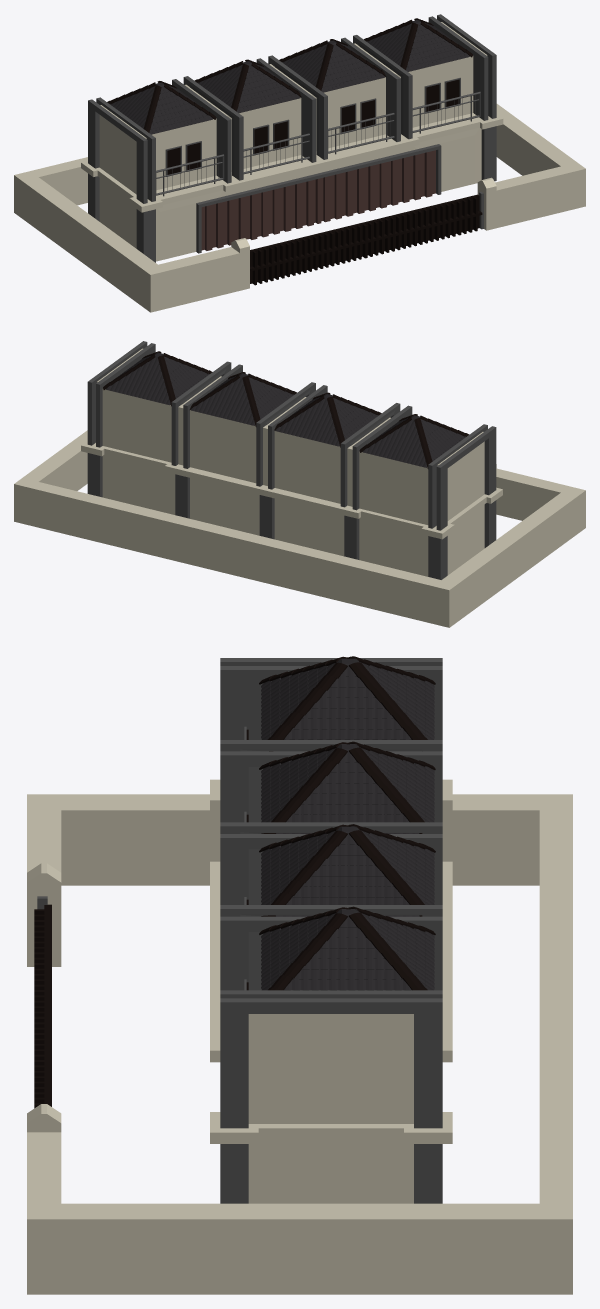
File: rumah mc gerbang 4.fbx
The picture shows the model from 3 angles, top to bottom: view 1: azimuth 30°, elevation 25°; view 2: azimuth 150°, elevation 25°; view 3: azimuth 270°, elevation 25°; orthographic projection. The views are drawn at different scales.
Visible parts, largest first — view 1: Plane, Plane.013, Plane.039, Plane.015, Plane.012, Plane.040, Plane.037, Plane.038, Plane.027, Plane.016, Plane.004, Plane.026 (+17 smaller); view 2: Plane, Plane.013, Plane.012, Plane.037, Plane.040, Plane.027, Plane.038, Plane.020, Plane.044, Plane.030, Plane.007, Plane.006 (+7 smaller); view 3: Plane.013, Plane, Plane.040, Plane.027, Plane.038, Plane.037, Plane.012, Plane.042, Plane.005, Plane.028, Plane.018, Plane.015 (+12 smaller).
Part boxes in pixels (x1=…): Plane: x1=81, y1=22, x2=503, y2=261; Plane.013: x1=14, y1=104, x2=585, y2=312; Plane.039: x1=201, y1=150, x2=435, y2=250; Plane.015: x1=250, y1=194, x2=482, y2=285; Plane.012: x1=88, y1=97, x2=155, y2=262; Plane.040: x1=428, y1=14, x2=496, y2=181; Plane.037: x1=172, y1=76, x2=243, y2=183; Plane.038: x1=256, y1=55, x2=327, y2=162; Plane.027: x1=341, y1=35, x2=412, y2=141; Plane.016: x1=196, y1=144, x2=441, y2=253; Plane.004: x1=149, y1=87, x2=212, y2=134; Plane.026: x1=321, y1=45, x2=384, y2=92; Plane: x1=81, y1=348, x2=502, y2=576; Plane.013: x1=14, y1=430, x2=585, y2=627; Plane.012: x1=428, y1=424, x2=496, y2=579; Plane.037: x1=340, y1=403, x2=412, y2=559; Plane.040: x1=87, y1=341, x2=155, y2=497; Plane.027: x1=171, y1=361, x2=242, y2=518; Plane.038: x1=256, y1=382, x2=327, y2=539; Plane.020: x1=275, y1=399, x2=339, y2=446; Plane.044: x1=106, y1=357, x2=170, y2=405; Plane.030: x1=191, y1=378, x2=254, y2=425; Plane.007: x1=363, y1=420, x2=427, y2=467; Plane.006: x1=420, y1=419, x2=465, y2=461; Plane.013: x1=27, y1=794, x2=572, y2=1294; Plane: x1=210, y1=779, x2=452, y2=1203; Plane.040: x1=220, y1=990, x2=442, y2=1203; Plane.027: x1=220, y1=905, x2=442, y2=990; Plane.038: x1=220, y1=822, x2=442, y2=904; Plane.037: x1=220, y1=740, x2=442, y2=822; Plane.012: x1=220, y1=658, x2=442, y2=739; Plane.042: x1=284, y1=917, x2=411, y2=990; Plane.005: x1=284, y1=666, x2=411, y2=739; Plane.028: x1=276, y1=834, x2=419, y2=916; Plane.018: x1=276, y1=751, x2=419, y2=833; Plane.015: x1=34, y1=904, x2=51, y2=1108.
Bounding box in the file's own units: 3990 × 1304 × 2168.
